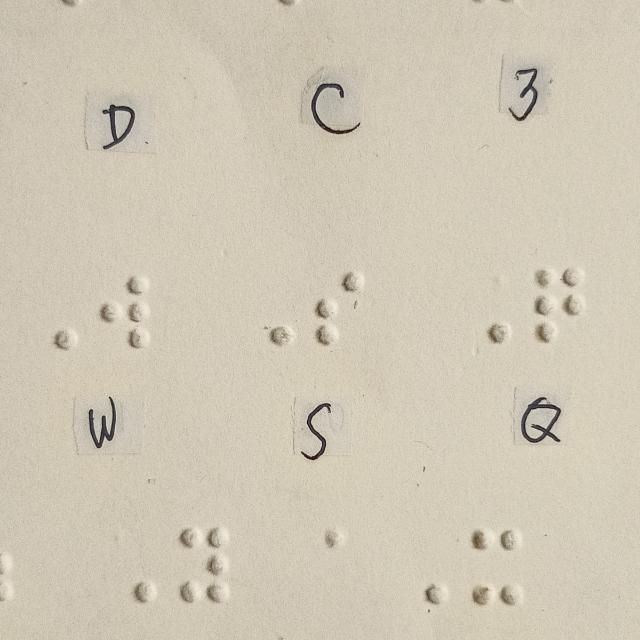capital_sign: (394, 528, 451, 608), (104, 525, 160, 606), (24, 273, 80, 353), (241, 270, 297, 350), (458, 267, 514, 347)
letter_Q: (529, 267, 585, 347)
letter_S: (310, 267, 366, 347)
letter_W: (94, 271, 150, 351)
letter_X: (467, 527, 523, 607)
letter_Y: (174, 525, 230, 606)
